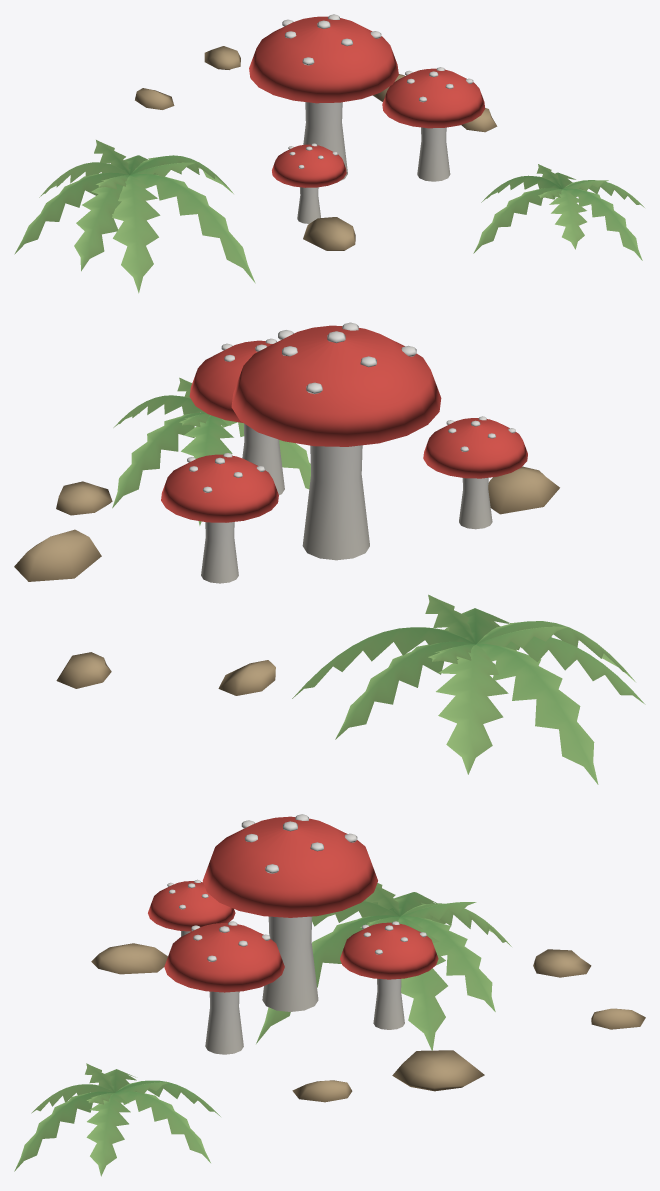
File: forest_mushrooms.glb
3 views of the same model, one above another, from view 1: azimuth 30°, elevation 25°; view 2: azimuth 150°, elevation 25°; view 3: azimuth 270°, elevation 25° (orthographic). The views are drawn at different scales.
Parts seen in each view (by area): view 1: body; view 2: body; view 3: body.
Part boxes in pixels (x1,y1,x2,y2): body: [14, 14, 644, 293]; body: [14, 322, 645, 784]; body: [14, 814, 645, 1176].
Size of the model in its own units: 0.6 by 0.2707 by 0.5759.
